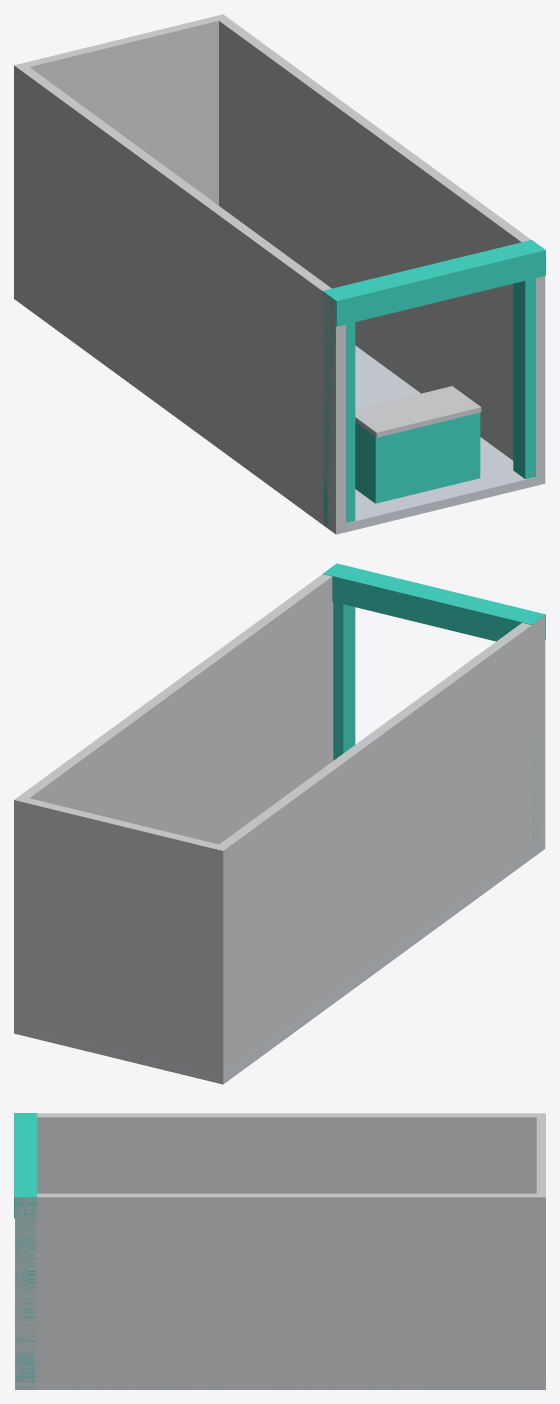
3 views of the same model, one above another, from view 1: azimuth 30°, elevation 25°; view 2: azimuth 150°, elevation 25°; view 3: azimuth 270°, elevation 25° (orthographic). The views are drawn at different scales.
Visible parts, largest first — view 1: Exhibition Booth Concept; view 2: Exhibition Booth Concept; view 3: Exhibition Booth Concept.
Boxes of the visible parts, x1,y1,x2,y2 form: Exhibition Booth Concept: (14, 14, 545, 534); Exhibition Booth Concept: (14, 563, 545, 1084); Exhibition Booth Concept: (14, 1113, 545, 1389).
Bounding box in the file's own units: 3 × 3.2 × 8.01.
